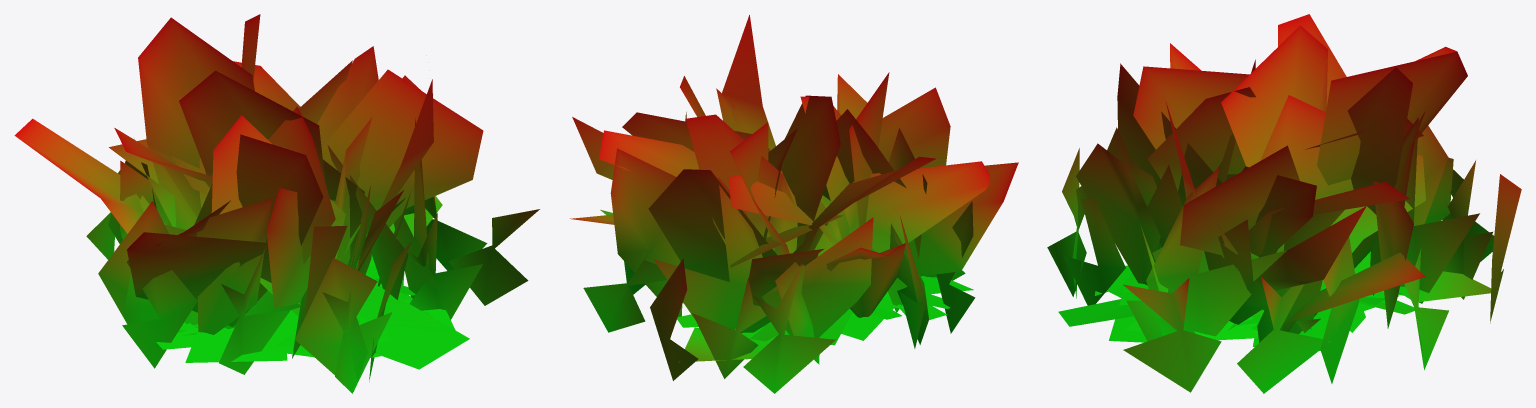
Rendered from Kikuyu Grass_LOD5_Var3_wiljearqx.fbx.
3 renders of one model, left to right at view 1: azimuth 30°, elevation 25°; view 2: azimuth 150°, elevation 25°; view 3: azimuth 270°, elevation 25°, orthographic. The views are drawn at different scales.
Visible parts, largest first — view 1: _vwa6_Var3_LOD5; view 2: _vwa6_Var3_LOD5; view 3: _vwa6_Var3_LOD5.
Part boxes in pixels (x1=…): _vwa6_Var3_LOD5: x1=14, y1=14, x2=539, y2=393; _vwa6_Var3_LOD5: x1=570, y1=15, x2=1018, y2=393; _vwa6_Var3_LOD5: x1=1047, y1=14, x2=1521, y2=393.
Size of the model in its own units: 72.75 by 46.93 by 76.66.
